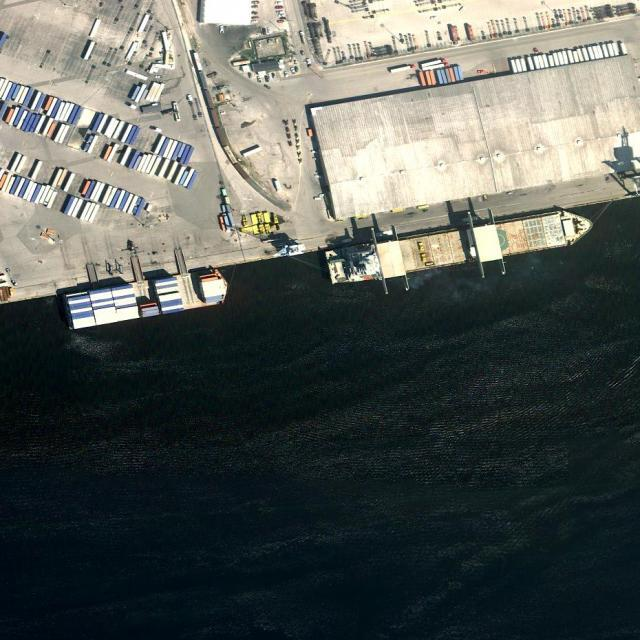Container Ship: (324, 205, 595, 285), (64, 266, 231, 330)
